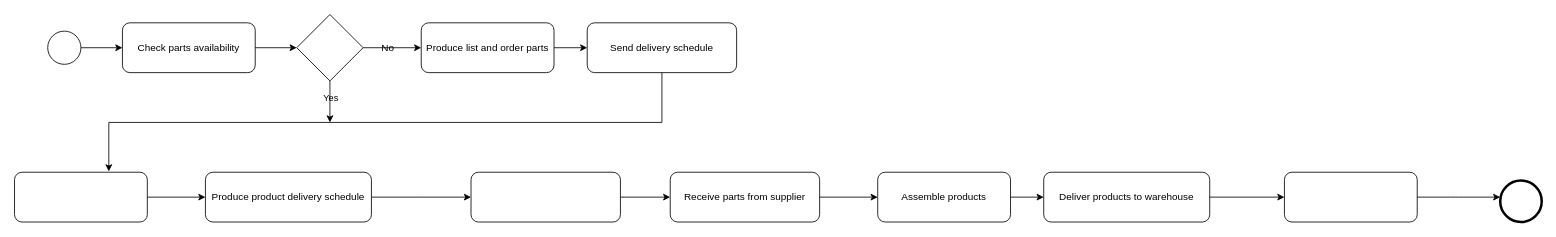
This 1556x237 diagram has some shape labels left out. The centre of each missing label's shape, as x and y in pixels:
Complete work order: point 1350,196
Parts in stock?: point 329,47
Produce work order: point 80,196
Send to customer: point 545,196
